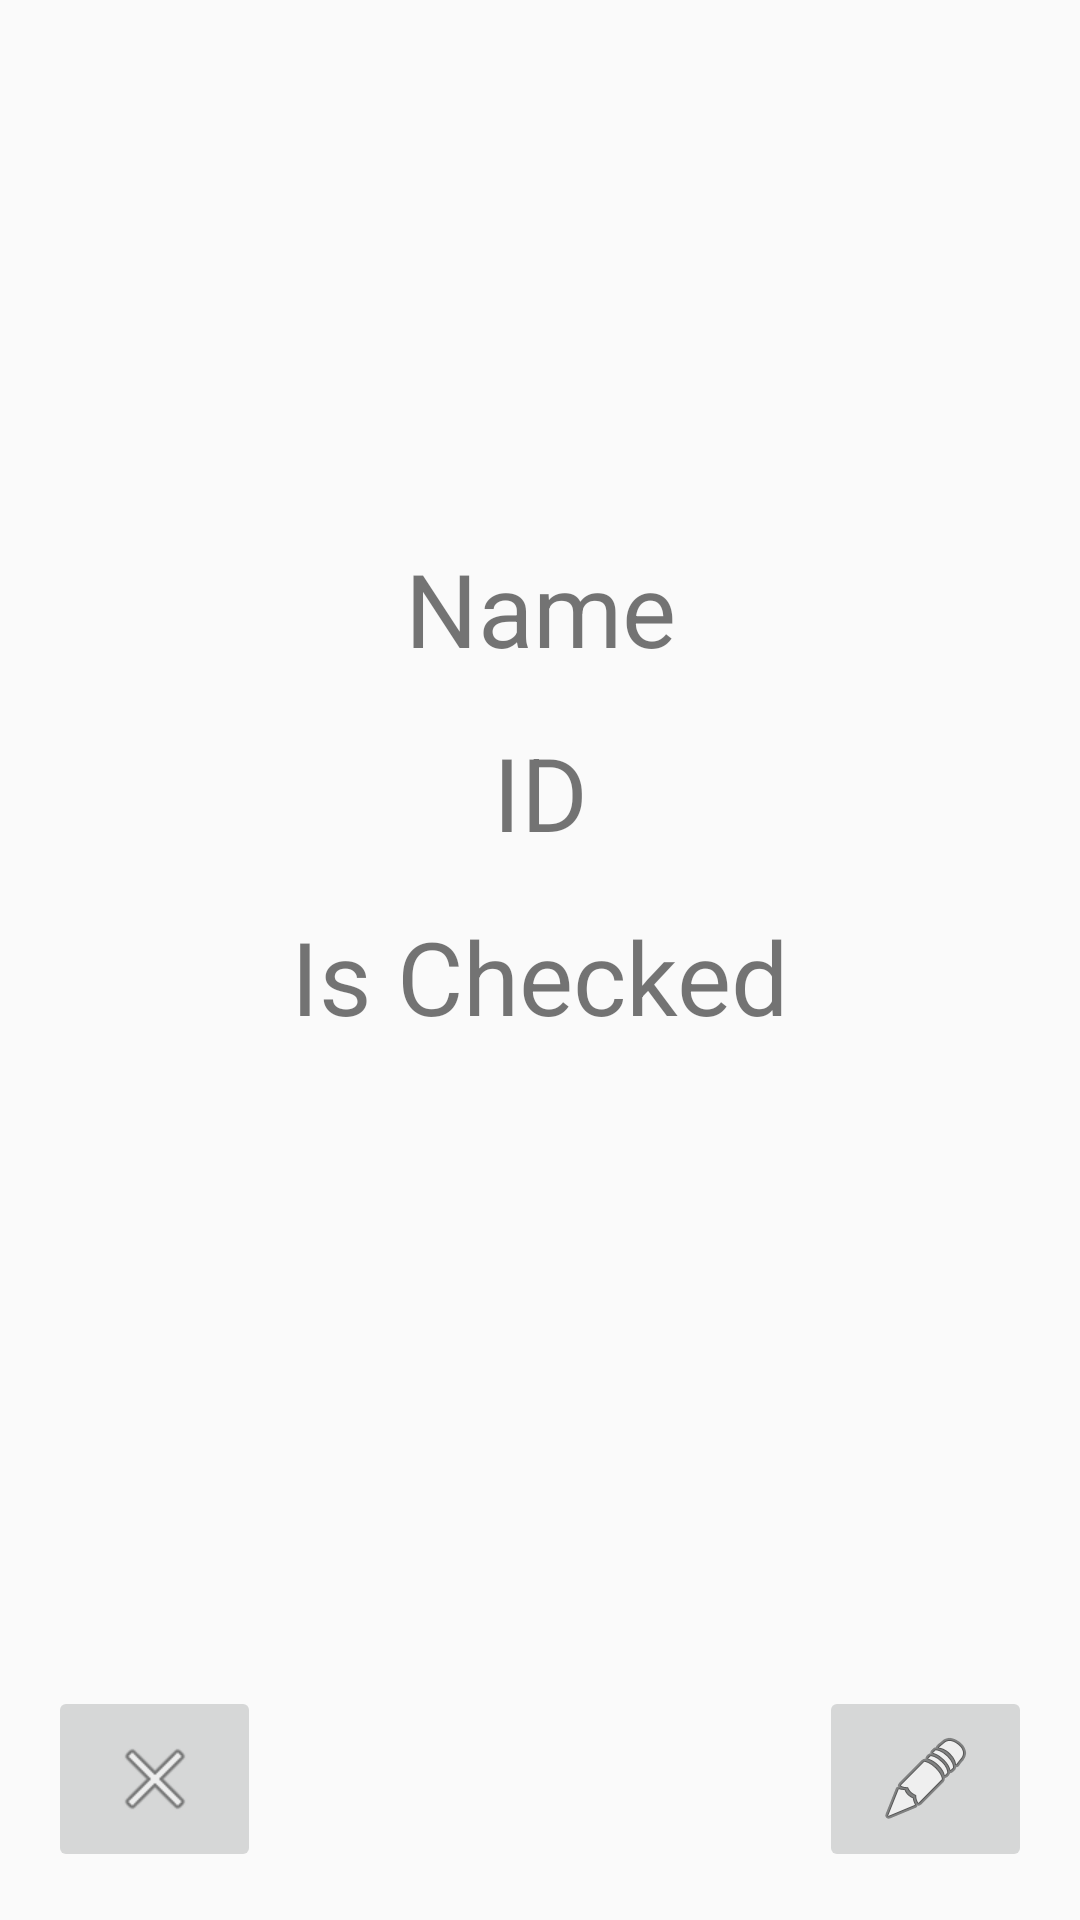

Named icons in this screenshot (1080*1920) and their bounding boxes, (x1, y1, x2, y2):
close clear cancel: (60, 1704, 249, 1854)
edit: (831, 1704, 1020, 1854)
